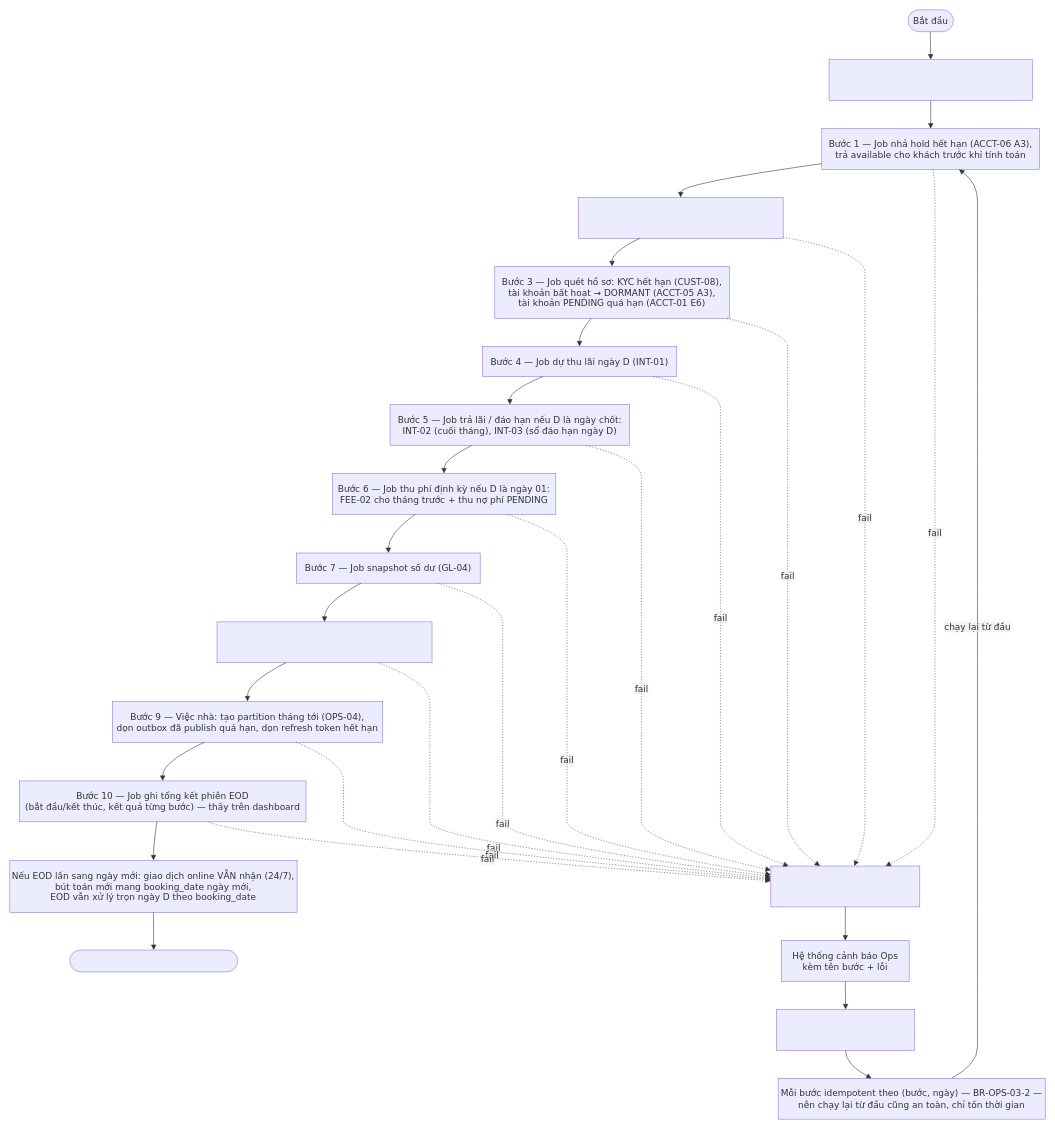
The diagram is 1055 pixels wide and 1129 high, and some of its shapes have lost their labels. The shapes that lost their labels are listed below. From the top down, each one's centre as x and y in pixels, then its label:
At (930,80): "Lịch kích hoạt EOD 23:30 giờ hệ thống (hoặc Ops chạy tay) cho ngày nghiệp vụ D".
At (680,217): "Bước 2 — Job quét saga quá hạn (TRF-05), chốt kết cục giao dịch treo".
At (324,642): "Bước 8 — Job đối chiếu (GL-05): pass thì chốt ngày, fail thì cảnh báo mức cao".
At (845,886): "Job dừng chuỗi tại bước fail (các bước sau không chạy)".
At (153,960): "Kết thúc — phiên EOD ngày D hoàn tất".
At (845,1029): "Ops xử lý nguyên nhân rồi chạy lại từ bước fail".
